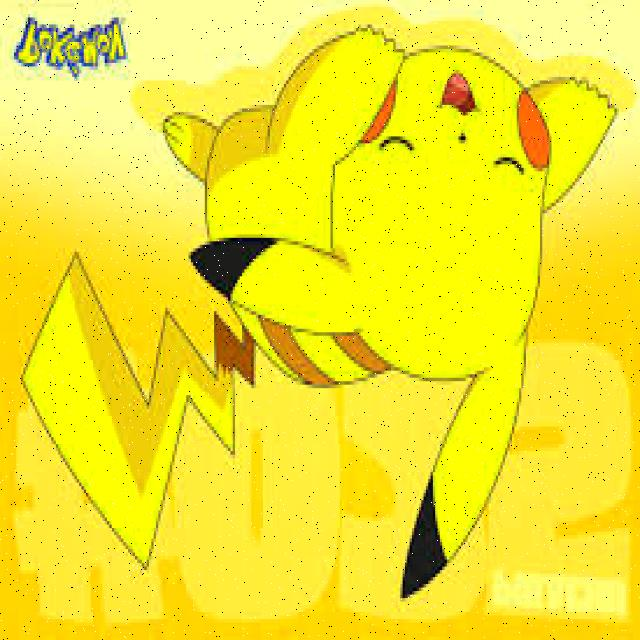pikachu: (26, 21, 630, 607)
